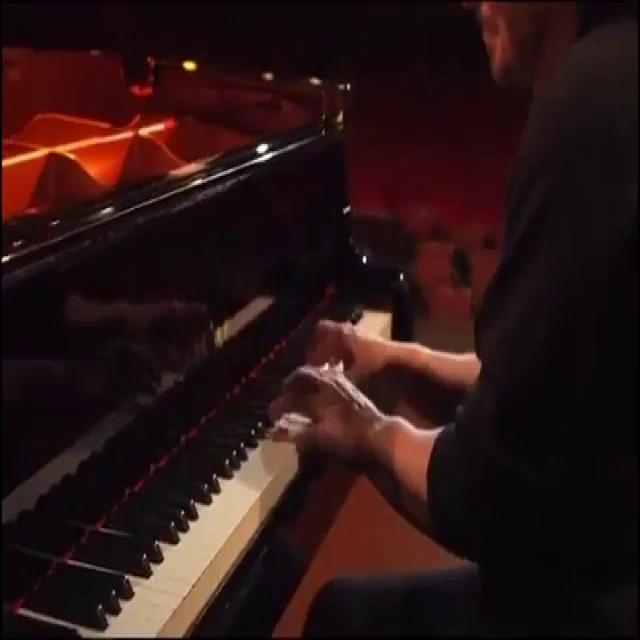Piano: (4, 277, 403, 640)
